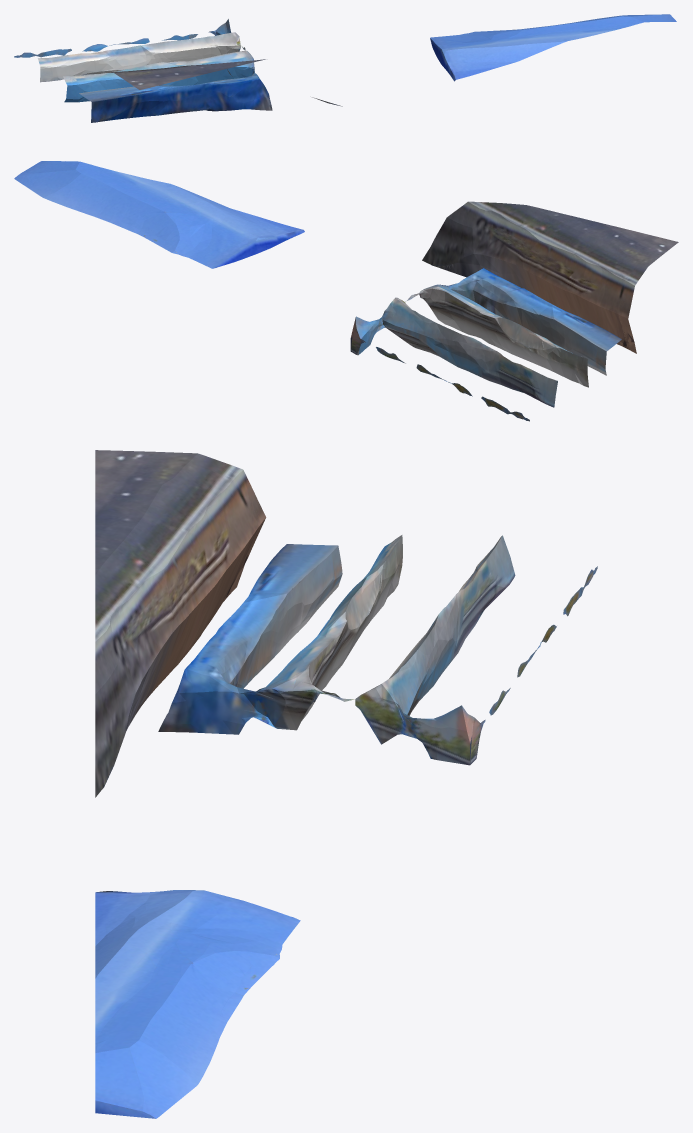
The picture shows the model from 3 angles, top to bottom: view 1: azimuth 30°, elevation 25°; view 2: azimuth 150°, elevation 25°; view 3: azimuth 270°, elevation 25°; orthographic projection. The views are drawn at different scales.
Bounding box in the file's own units: 6.68 × 0.8017 × 2.67.
Materials: 1 (1 with a texture image).
